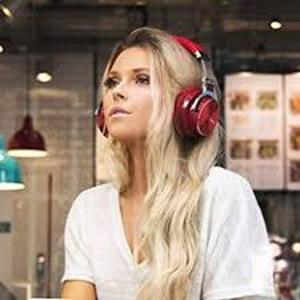Headphones: (94, 34, 221, 140)
